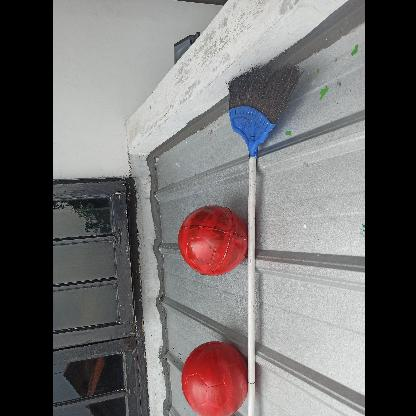red_ball: (174, 345, 251, 415), (176, 206, 246, 276)
